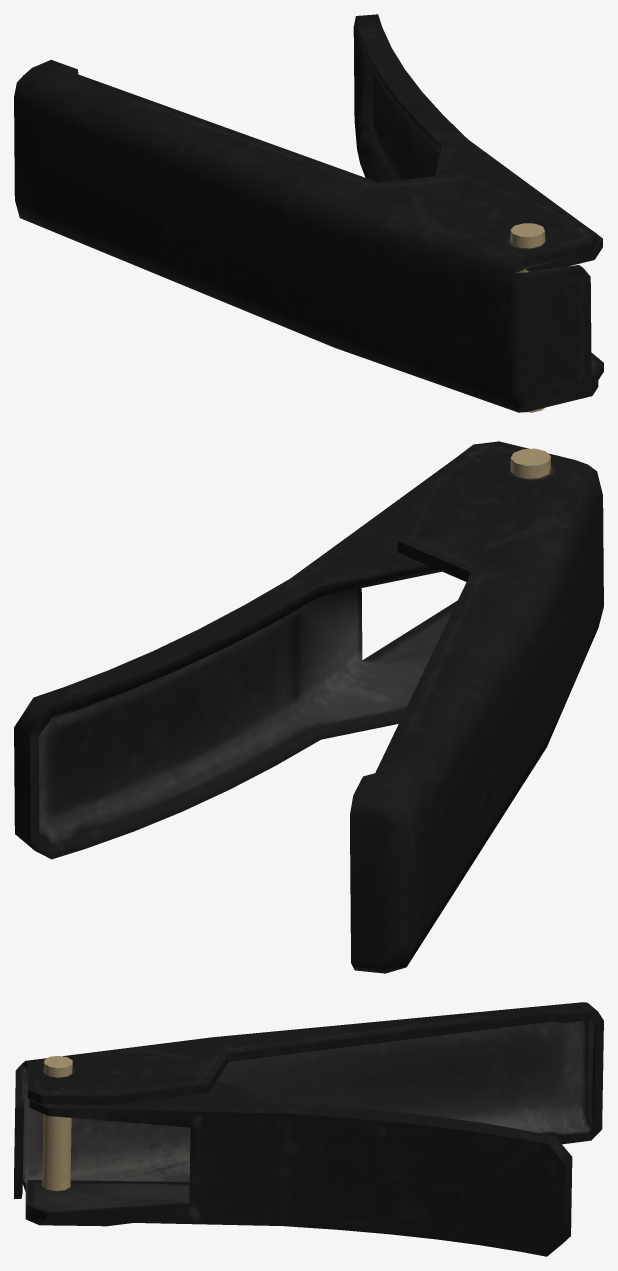
Rendered from SM_FireExtinguisher_Part_10.FBX.
The picture shows the model from 3 angles, top to bottom: view 1: azimuth 30°, elevation 25°; view 2: azimuth 150°, elevation 25°; view 3: azimuth 270°, elevation 25°; orthographic projection. The views are drawn at different scales.
Parts seen in each view (by area): view 1: SM_FireExtinguisher_Part_10_LOD0; view 2: SM_FireExtinguisher_Part_10_LOD0; view 3: SM_FireExtinguisher_Part_10_LOD0.
Part boxes in pixels (x1,y1,x2,y2): SM_FireExtinguisher_Part_10_LOD0: [14, 14, 603, 412]; SM_FireExtinguisher_Part_10_LOD0: [14, 441, 603, 973]; SM_FireExtinguisher_Part_10_LOD0: [14, 1002, 603, 1256].
Bounding box in the file's own units: 10.01 × 17.07 × 4.75.
